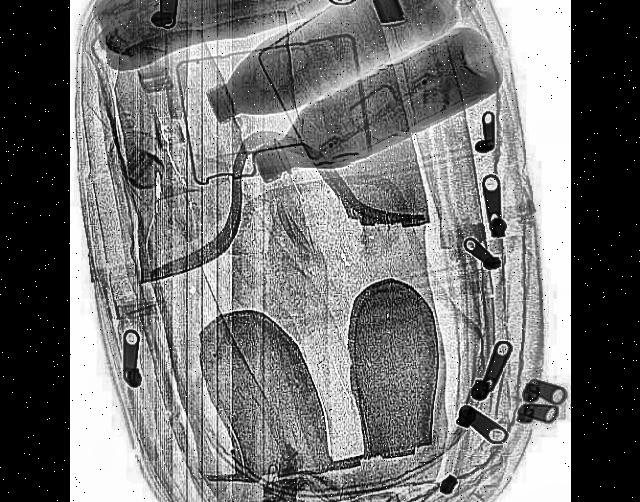Gun: (259, 0, 409, 17)
